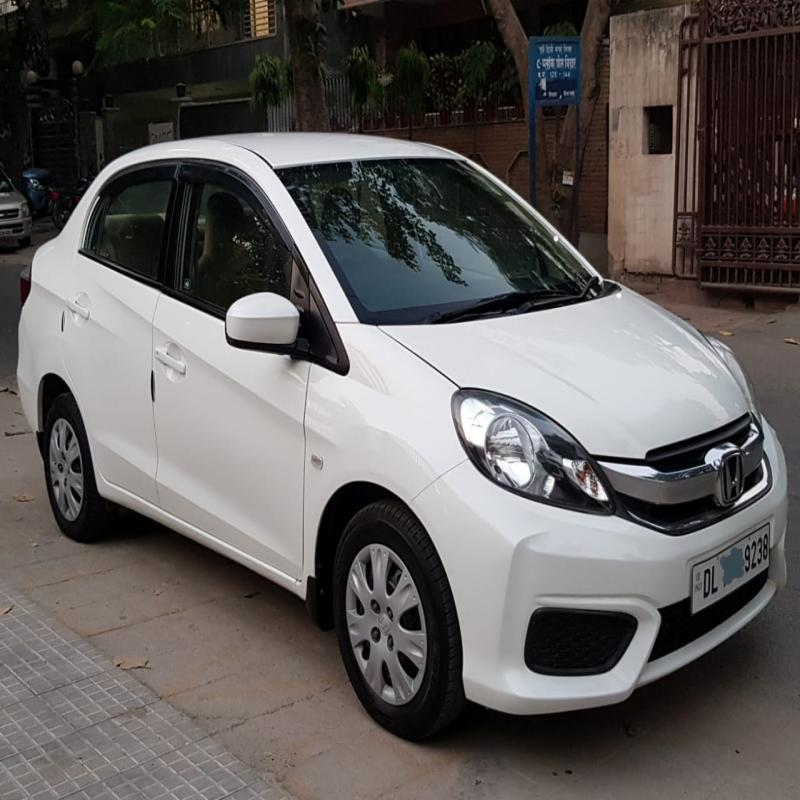car: (31, 126, 800, 725)
